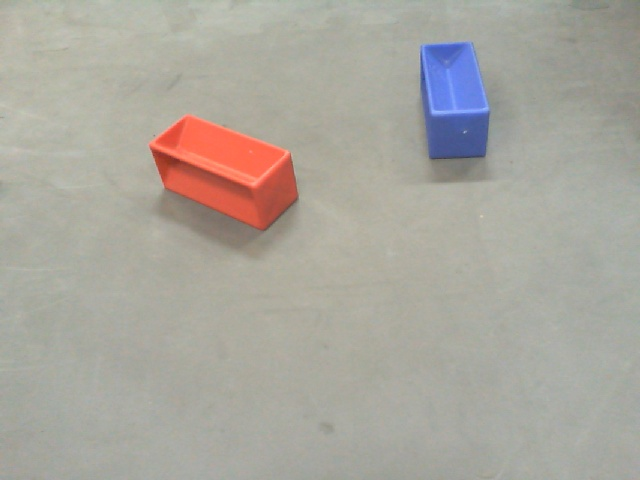BlueSample: (416, 40, 492, 163)
RedSample: (147, 112, 300, 231)
